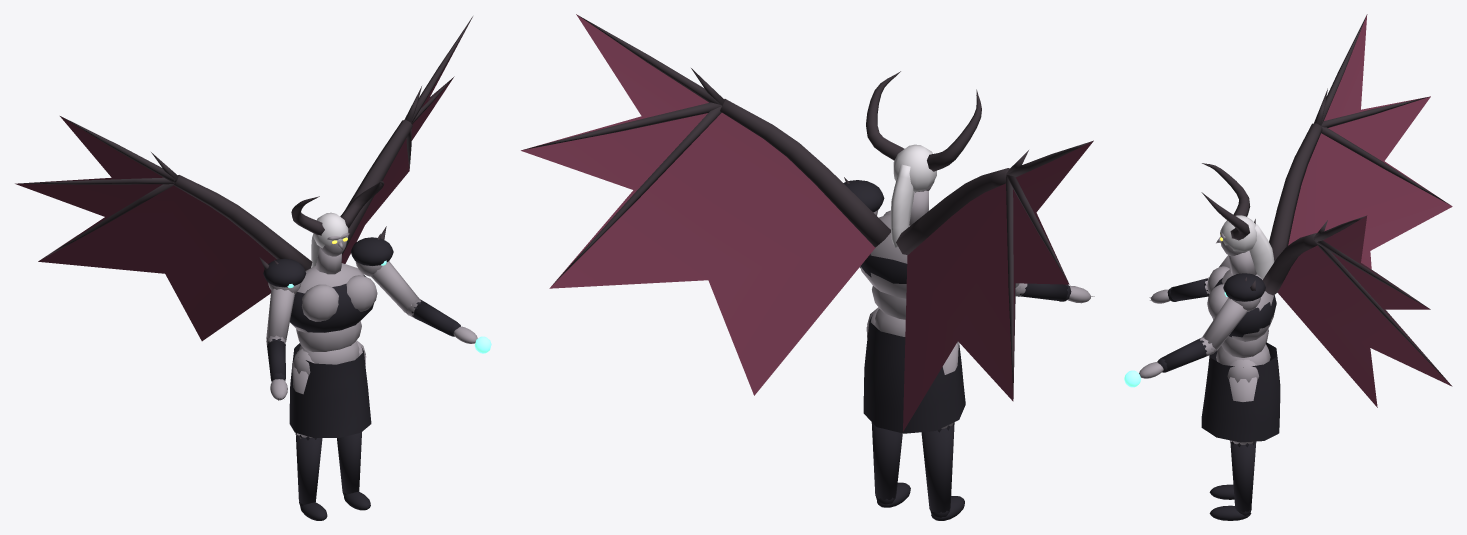
Rendered from incubus.glb.
3 renders of one model, left to right at view 1: azimuth 30°, elevation 25°; view 2: azimuth 150°, elevation 25°; view 3: azimuth 270°, elevation 25°, orthographic. The views are drawn at different scales.
Parts seen in each view (by area): view 1: torso, pelvis, head, shin_R, upperarm_L, shin_L, upperarm_R, forearm_L, forearm_R, thigh_R; view 2: torso, pelvis, head, shin_R, shin_L, forearm_R; view 3: torso, pelvis, head, shin_L, upperarm_L, thigh_L, forearm_L, forearm_R, hand_L, foot_L.
Boxes of the visible parts, <box> form: torso: <box>15,16,472,351</box>; pelvis: <box>289,341,371,437</box>; head: <box>291,181,384,267</box>; shin_R: <box>295,433,322,506</box>; upperarm_L: <box>355,261,418,312</box>; shin_L: <box>337,432,361,495</box>; upperarm_R: <box>266,282,301,341</box>; forearm_L: <box>405,298,460,336</box>; forearm_R: <box>266,335,285,381</box>; thigh_R: <box>292,349,314,438</box>; torso: <box>521,14,1093,431</box>; pelvis: <box>863,309,965,433</box>; head: <box>866,71,981,247</box>; shin_R: <box>921,422,954,517</box>; shin_L: <box>871,422,902,504</box>; forearm_R: <box>1015,283,1071,301</box>; torso: <box>1207,14,1452,407</box>; pelvis: <box>1201,342,1280,442</box>; head: <box>1201,163,1274,278</box>; shin_L: <box>1230,440,1256,515</box>; upperarm_L: <box>1202,297,1260,350</box>; thigh_L: <box>1227,359,1258,444</box>; forearm_L: <box>1157,337,1216,372</box>; forearm_R: <box>1167,277,1209,301</box>; hand_L: <box>1124,362,1163,387</box>; foot_L: <box>1209,505,1251,520</box>.
Bounding box in the file's own units: 3.54 × 3.05 × 2.3.
